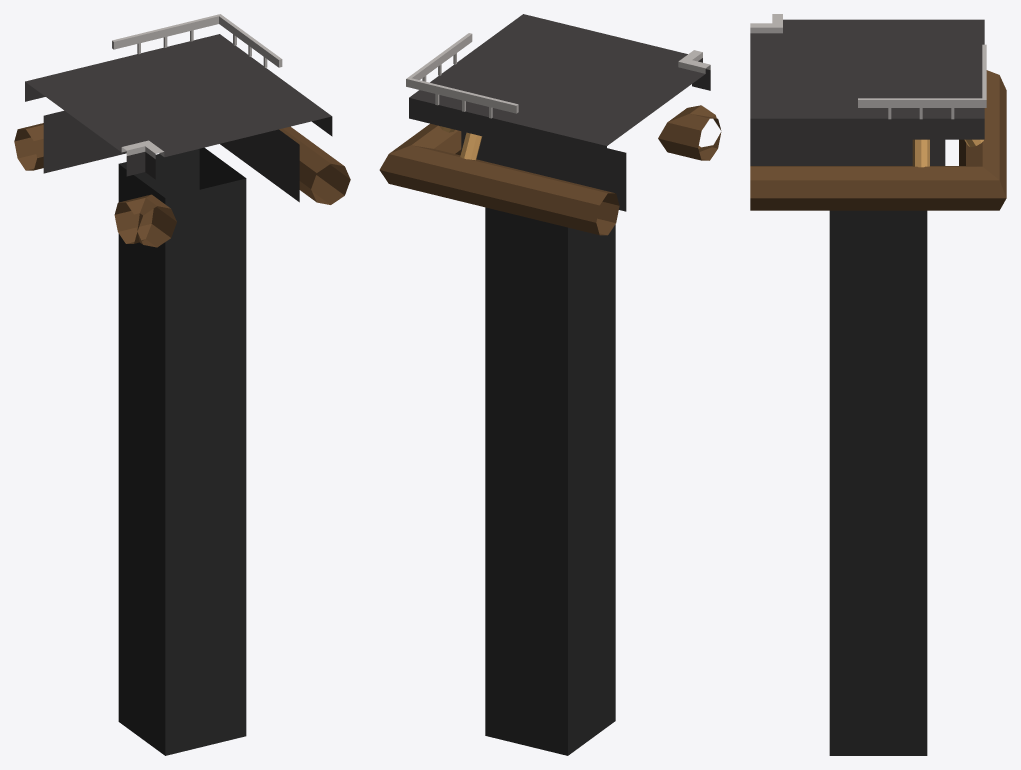
File: road_corner_type_01.fbx
The picture shows the model from 3 angles, left to right: view 1: azimuth 30°, elevation 25°; view 2: azimuth 150°, elevation 25°; view 3: azimuth 270°, elevation 25°; orthographic projection. The views are drawn at different scales.
Parts seen in each view (by area): view 1: road_corner_type_01; view 2: road_corner_type_01; view 3: road_corner_type_01.
Boxes of the visible parts, left/top/right/bottom form: road_corner_type_01: left=14, top=14, right=350, bottom=755; road_corner_type_01: left=379, top=14, right=721, bottom=755; road_corner_type_01: left=750, top=14, right=1006, bottom=755.
Bounding box in the file's own units: 362 × 1063 × 362.
1 material, 1 textured.
